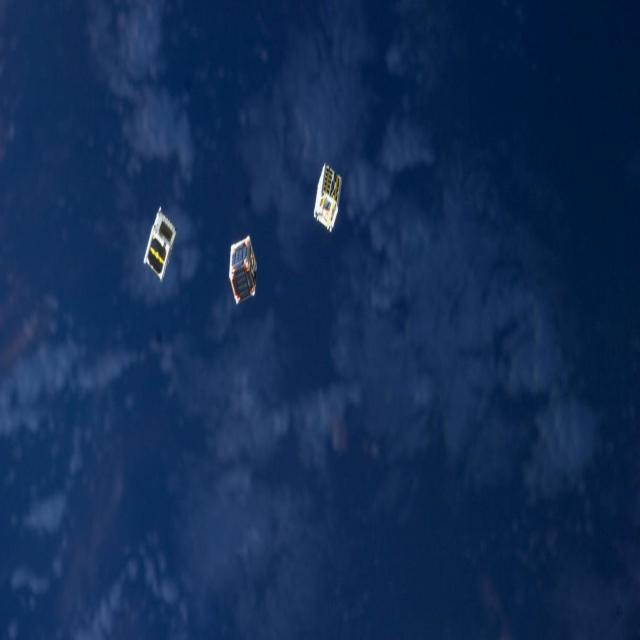large_debris: (306, 160, 360, 244), (220, 236, 276, 311), (144, 205, 180, 292)
